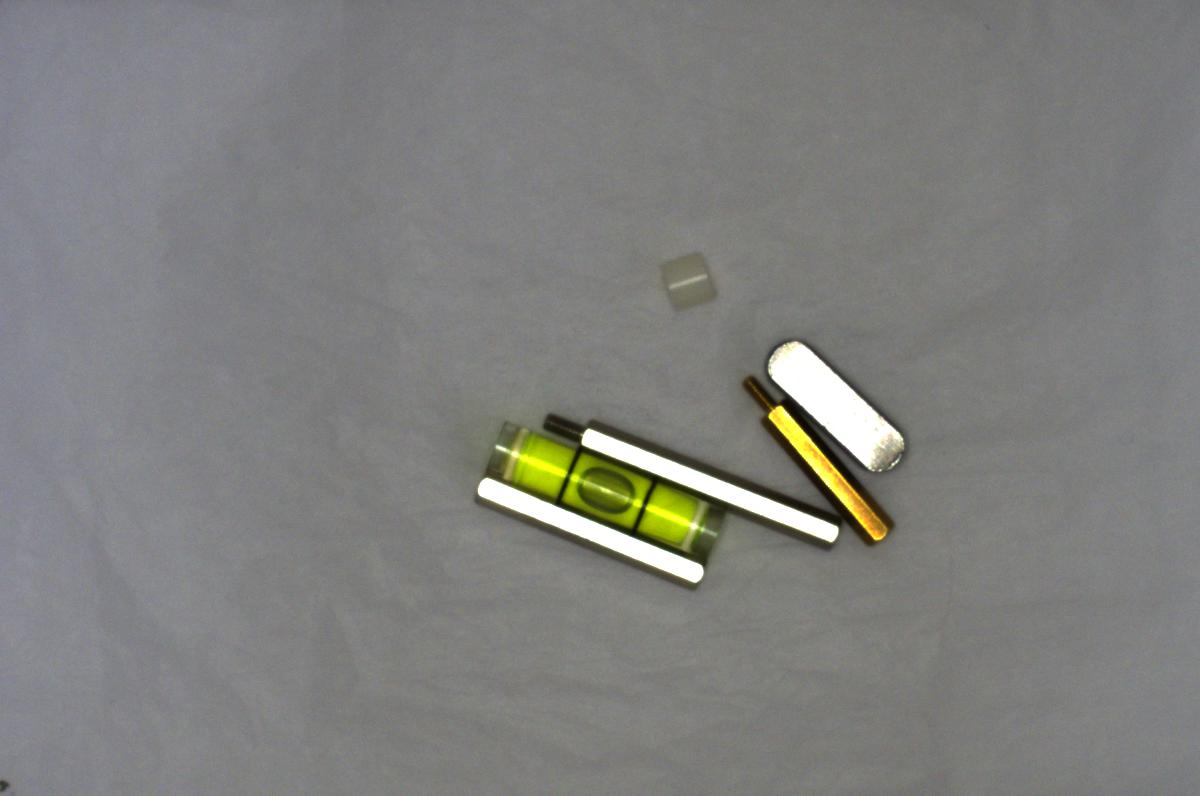Double hexagonal column: (466, 476, 715, 594)
Hexagon pillar: (742, 360, 898, 554)
Hexagonal steel column: (535, 408, 850, 555)
Horizontal bubble: (471, 418, 724, 567)
Keybar: (758, 331, 917, 481)
Plastic cushion pillar: (652, 242, 720, 313)
